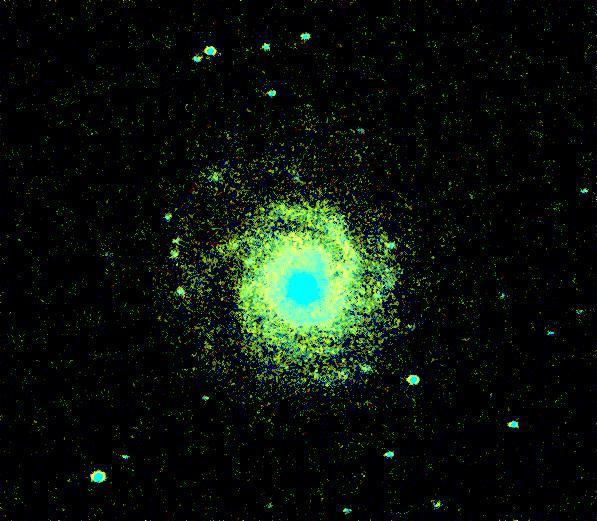star: (241, 277, 271, 307)
